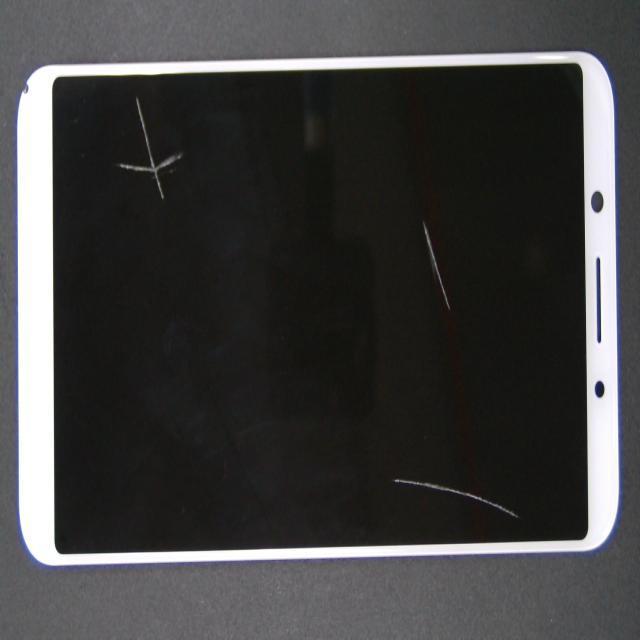scratch: (391, 476, 523, 524), (420, 225, 455, 319)
